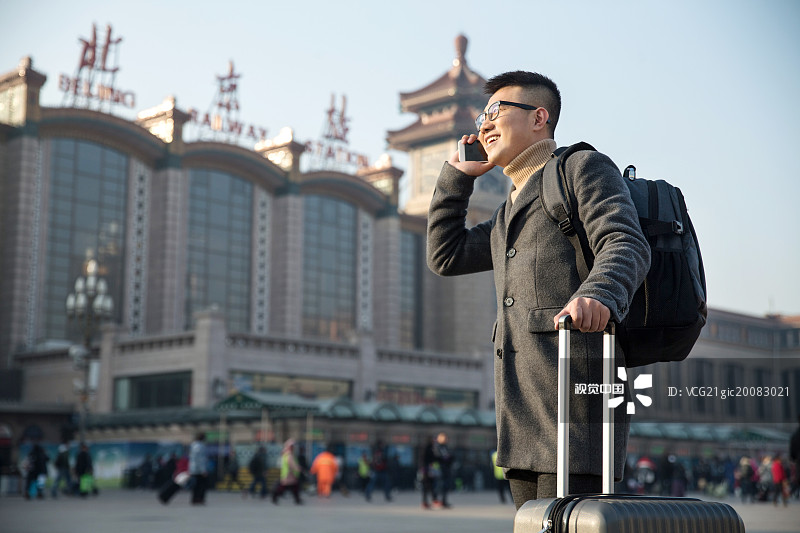calling: (431, 122, 506, 182)
no-phone: (539, 280, 639, 342)
